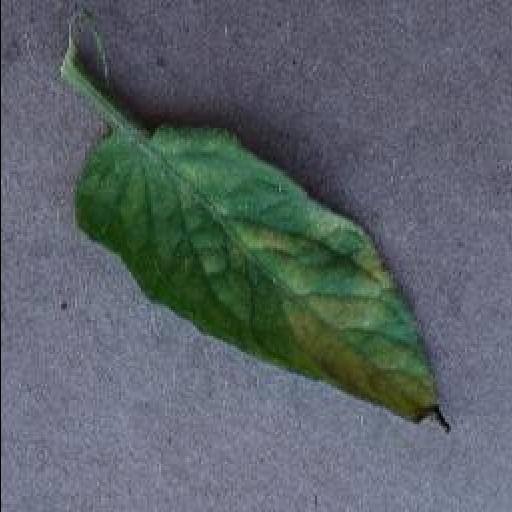disease_tomato: (78, 128, 452, 430)
